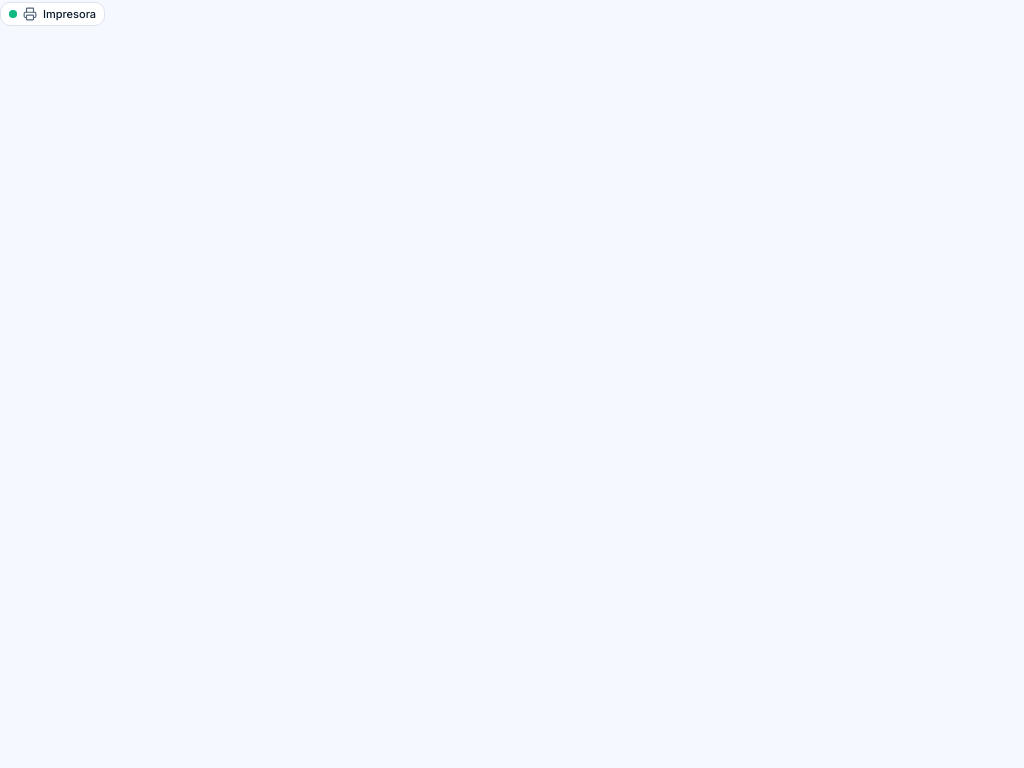
Test: StatusPill a11y › renderiza el historial con role=list y entradas legibles
Click the button "Impresora" at (53, 14), box [0,2,105,26]
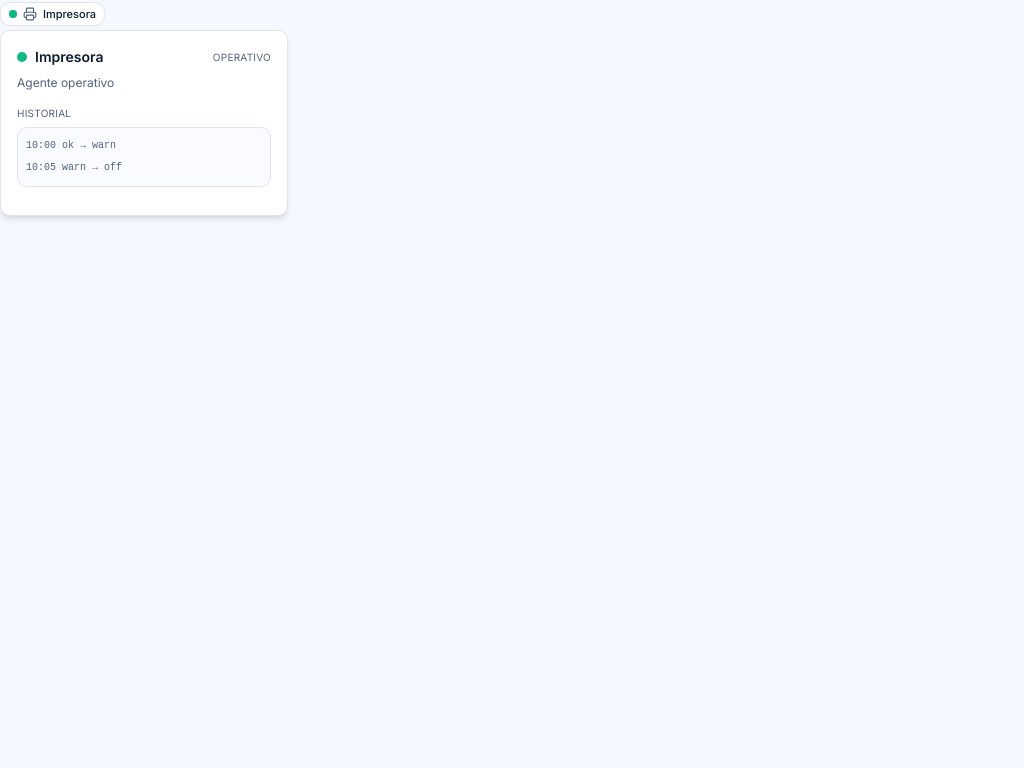
Check: the text "Historial" is shown, box [17,107,71,119]
Check: the list item "10:00 ok → warn" is shown, box [26,140,116,151]
Check: the list item "10:05 warn → off" is shown, box [26,162,122,173]
